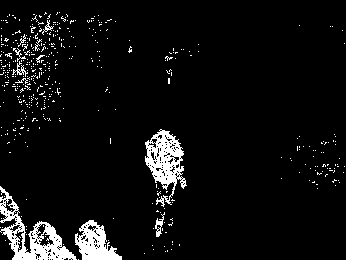person: (145, 122, 197, 234)
